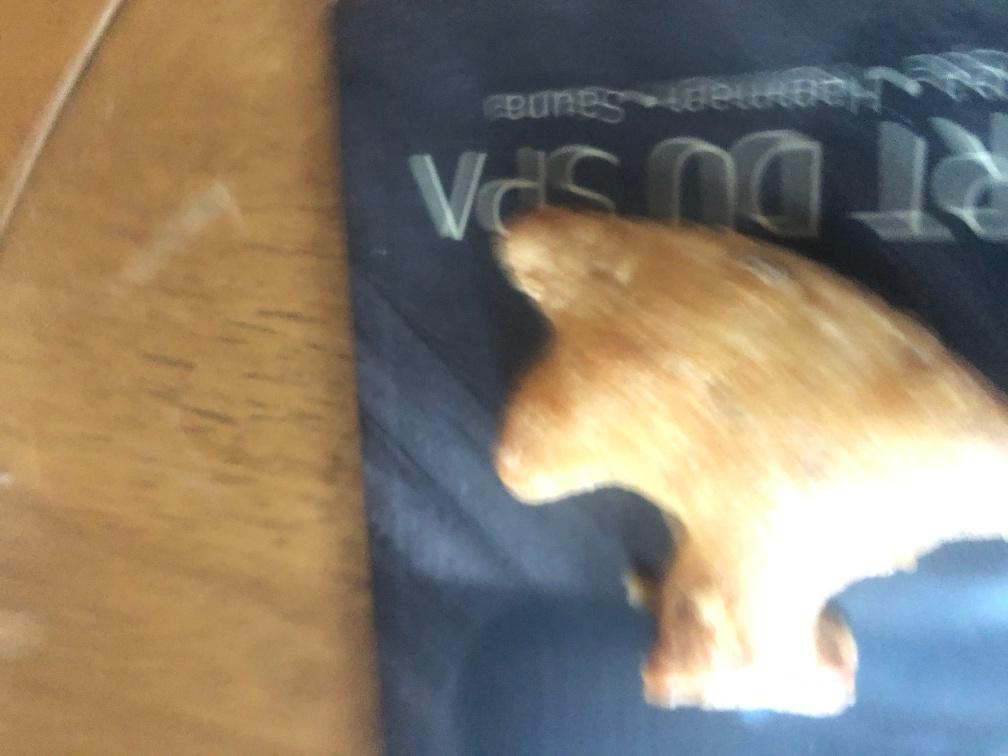lamb: (483, 204, 1007, 716)
